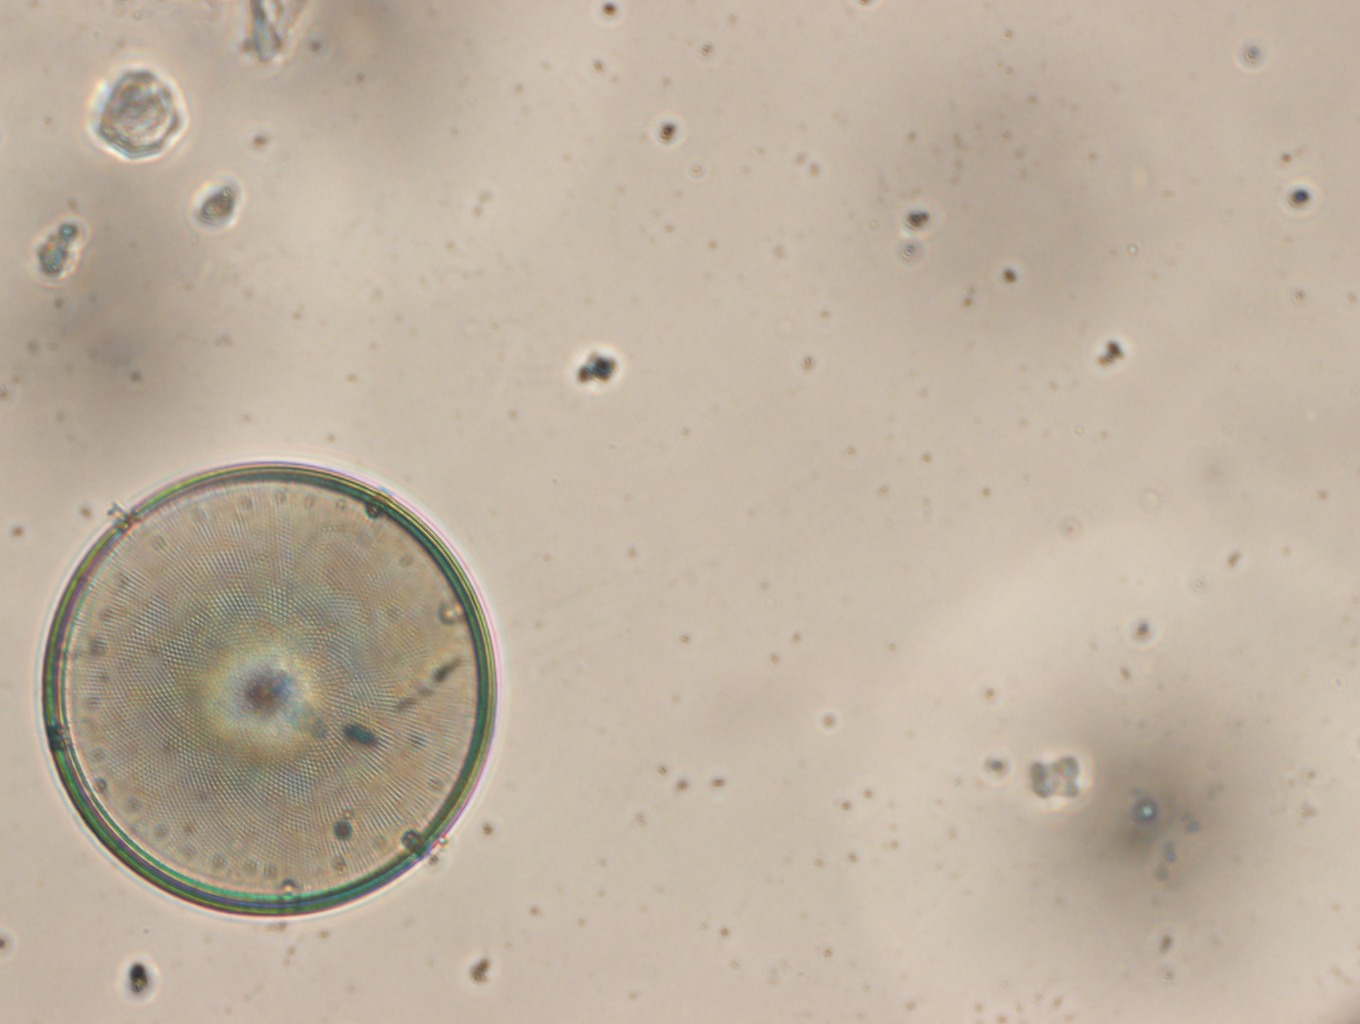coscinodiscus: (39, 463, 497, 919)
